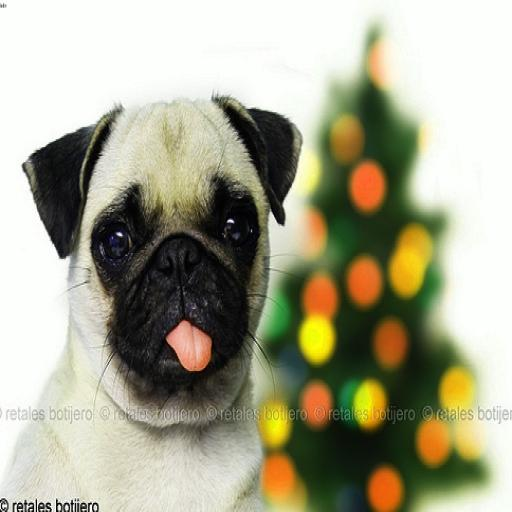dog_face: (27, 74, 312, 403)
